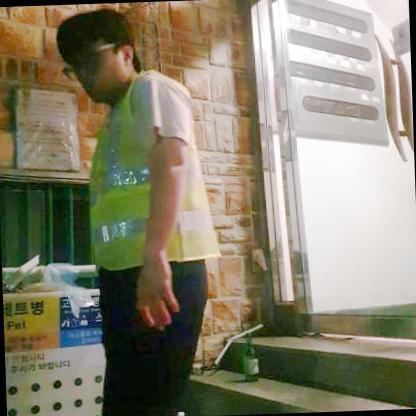no-helmet: (52, 15, 134, 67)
vest: (83, 69, 223, 272)
